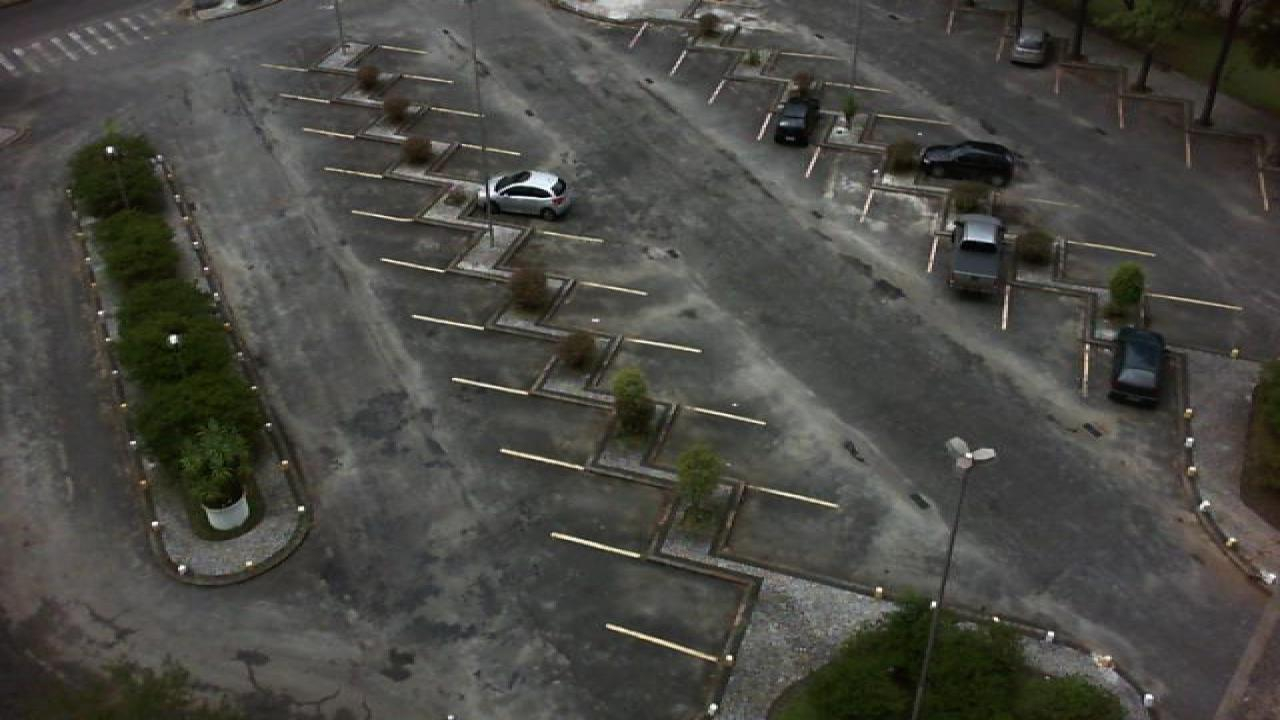Car: (1108, 324, 1168, 407), (946, 212, 1006, 294), (918, 140, 1018, 185), (484, 169, 574, 218), (770, 97, 816, 146), (1006, 27, 1050, 67)
